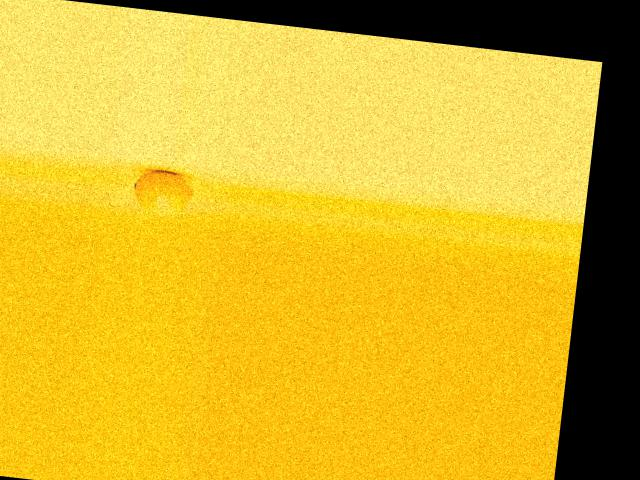lemon: (124, 169, 205, 222)
